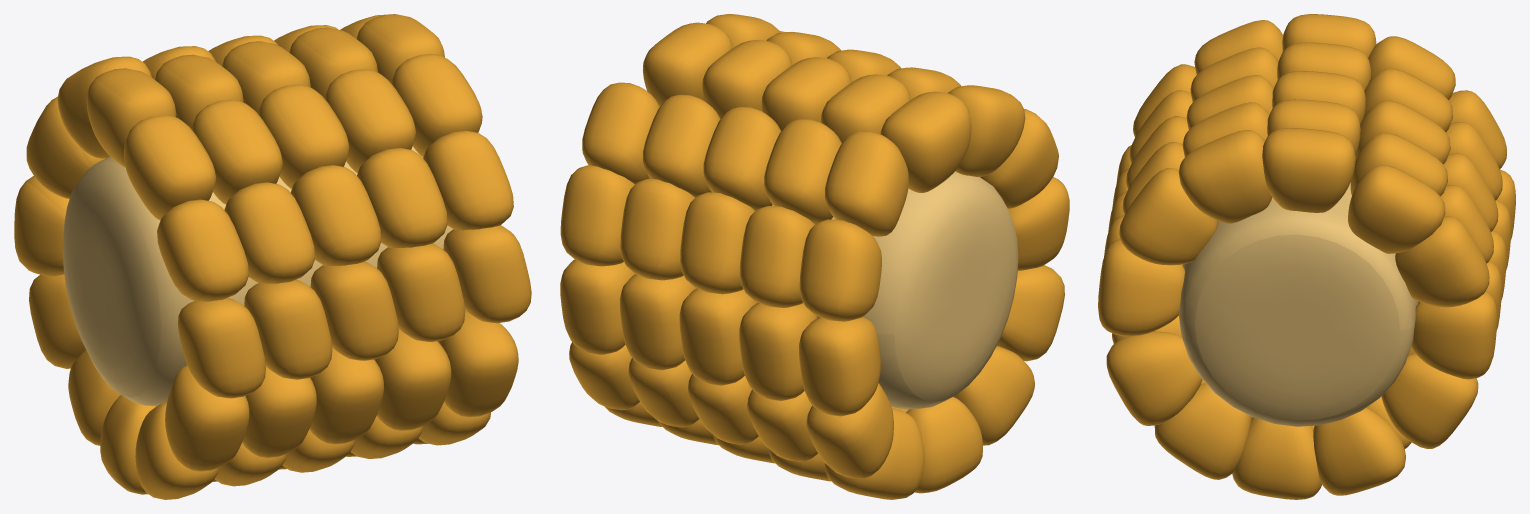
Rendered from corn (1).fbx.
The picture shows the model from 3 angles, left to right: view 1: azimuth 30°, elevation 25°; view 2: azimuth 150°, elevation 25°; view 3: azimuth 270°, elevation 25°; orthographic projection. The views are drawn at different scales.
Visible parts, largest first — view 1: Cube.005_4; view 2: Cube.005_4; view 3: Cube.005_4.
Boxes of the visible parts, x1,y1,x2,y2 form: Cube.005_4: (14,14,531,499); Cube.005_4: (560,14,1069,499); Cube.005_4: (1098,14,1515,499).
Size of the model in its own units: 150 by 162 by 169.
